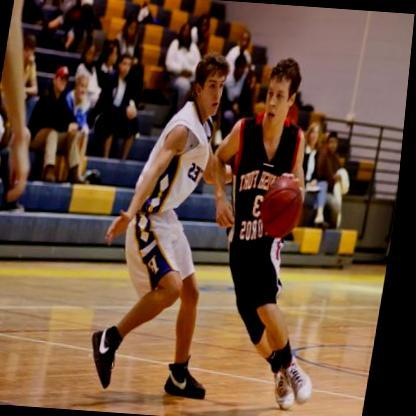basketball: (262, 175, 312, 237)
